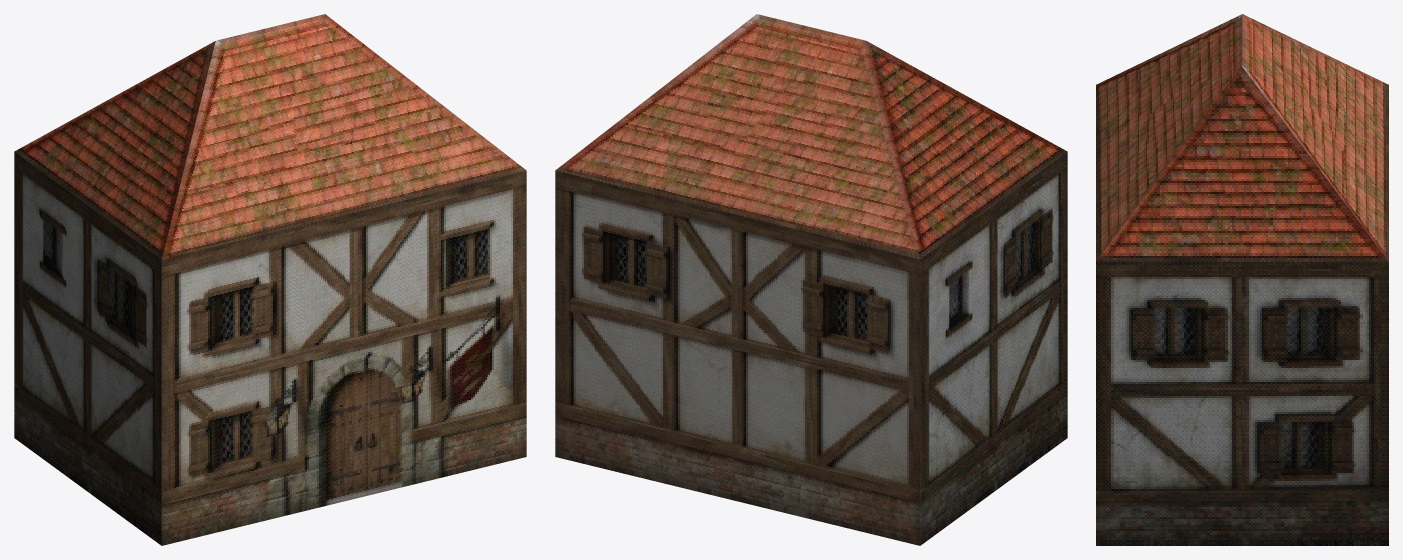
Rendered from inn.glb.
3 renders of one model, left to right at view 1: azimuth 30°, elevation 25°; view 2: azimuth 150°, elevation 25°; view 3: azimuth 270°, elevation 25°, orthographic.
Visible parts, largest first — view 1: Two-Storey Medieval Tudor; view 2: Two-Storey Medieval Tudor; view 3: Two-Storey Medieval Tudor.
Part boxes in pixels (x1,y1,x2,y2): Two-Storey Medieval Tudor: [14, 14, 526, 545]; Two-Storey Medieval Tudor: [555, 14, 1067, 545]; Two-Storey Medieval Tudor: [1096, 14, 1388, 545].
Size of the model in its own units: 10 by 11 by 7.
1 material, 1 textured.
